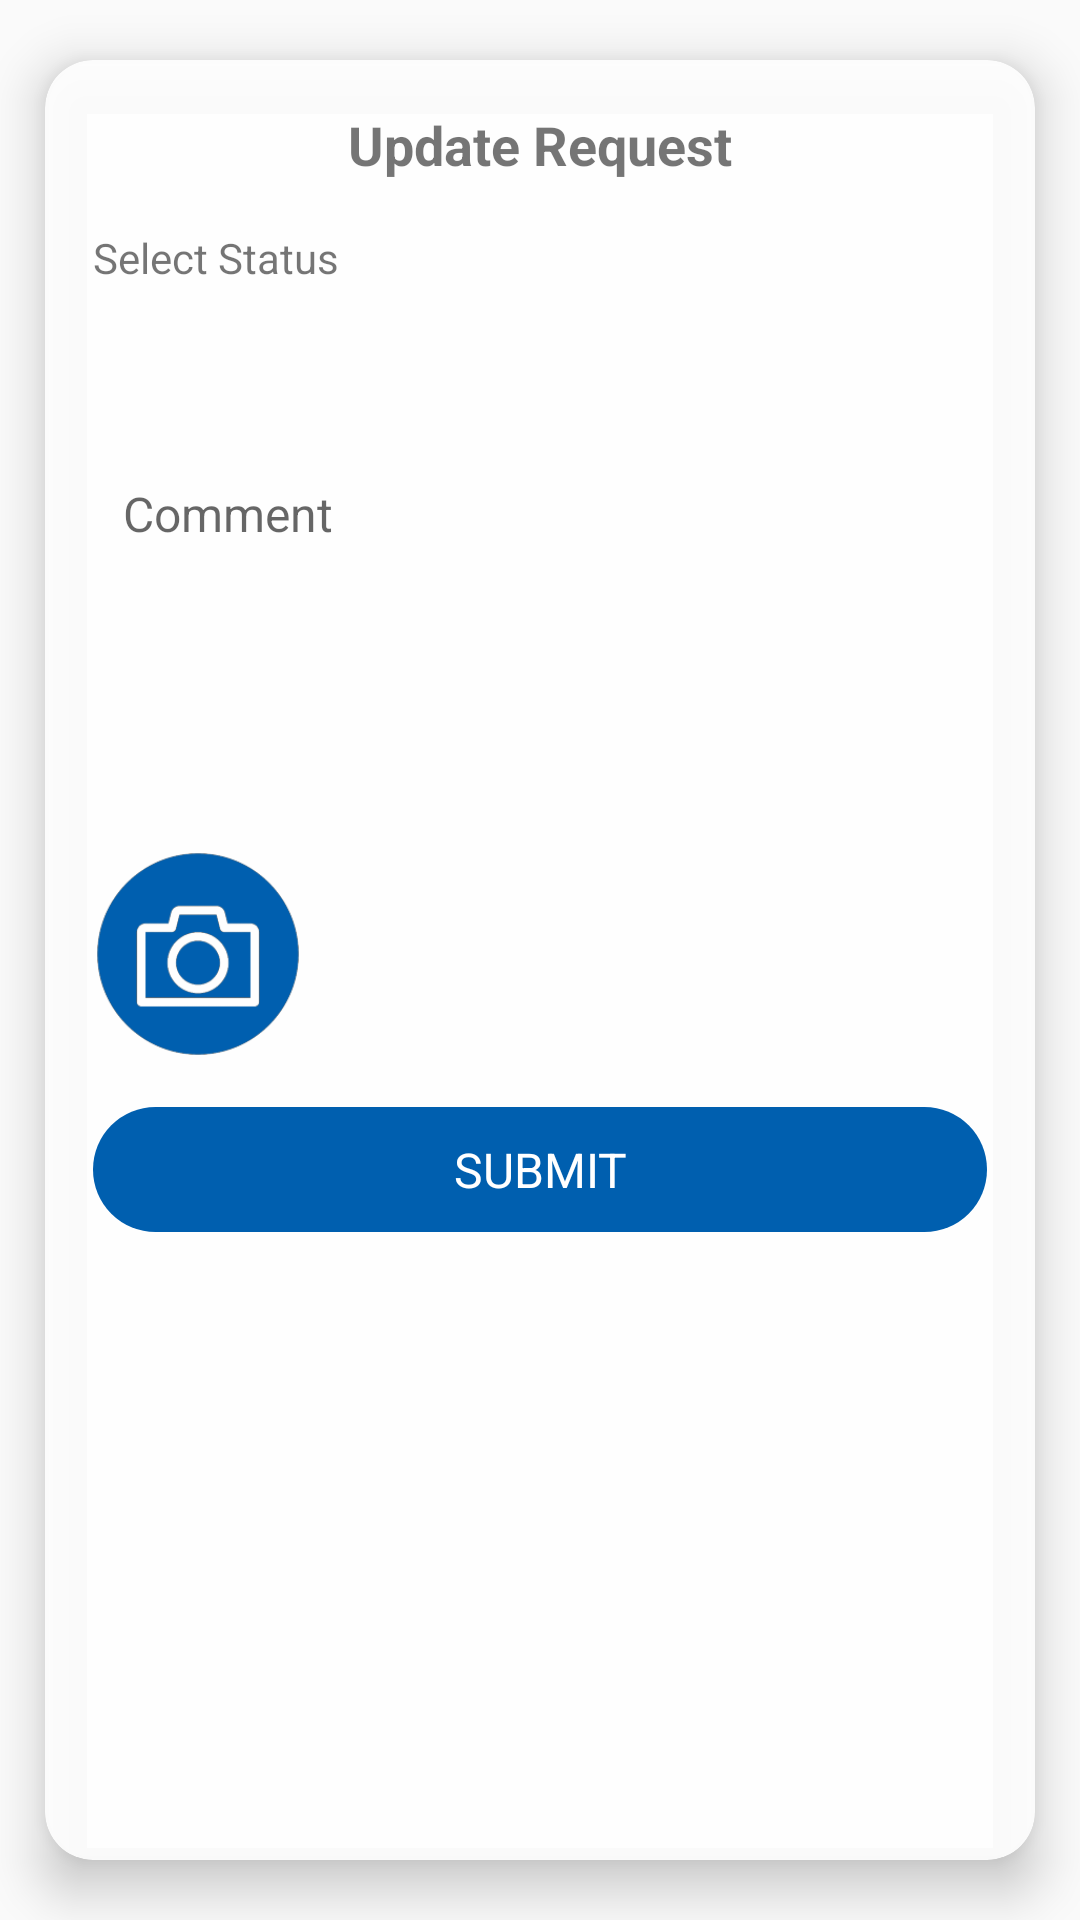

Named icons in this screenshot (1080×1920) and their bounding boxes, (left=x1, top=y1, right=x2, bottom=y2):
cameraupload: (left=97, top=853, right=299, bottom=1055)
